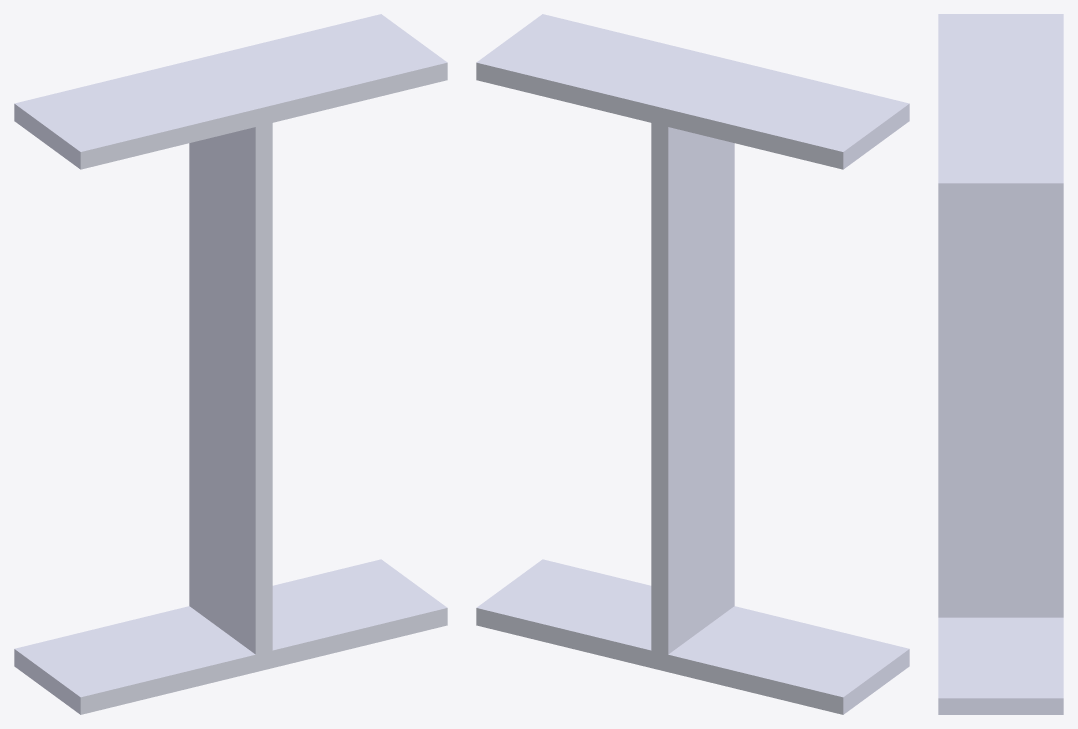
The picture shows the model from 3 angles, left to right: view 1: azimuth 30°, elevation 25°; view 2: azimuth 150°, elevation 25°; view 3: azimuth 270°, elevation 25°; orthographic projection. The views are drawn at different scales.
Visible parts, largest first — view 1: i_AlphaProta_Grey; view 2: i_AlphaProta_Grey; view 3: i_AlphaProta_Grey.
Boxes of the visible parts, x1,y1,x2,y2 form: i_AlphaProta_Grey: (14,14,447,714); i_AlphaProta_Grey: (476,14,909,714); i_AlphaProta_Grey: (938,14,1063,714).
Size of what is drawn, in the model's own units: 0.1436 by 0.2105 by 0.045.
Materials: 2 (2 with a texture image).
